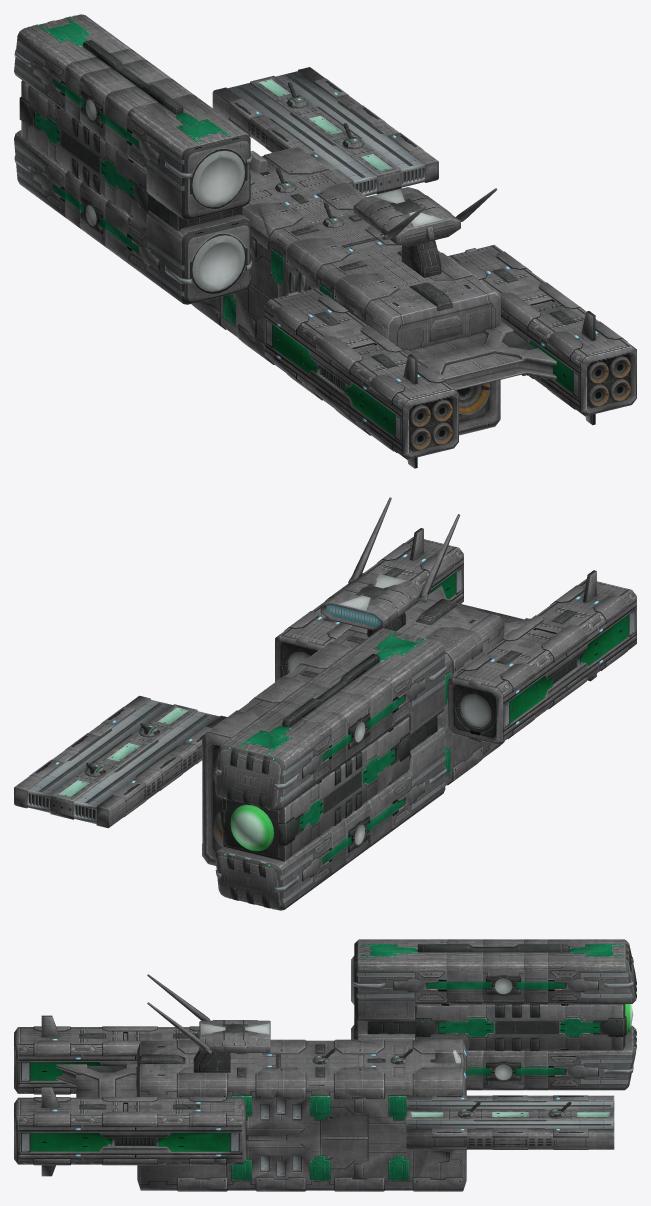
Rendered from cruiser.glb.
3 renders of one model, top to bottom at view 1: azimuth 30°, elevation 25°; view 2: azimuth 150°, elevation 25°; view 3: azimuth 270°, elevation 25°, orthographic. The views are drawn at different scales.
Parts seen in each view (by area): view 1: detail-0; view 2: detail-0, turret01, lightsA; view 3: detail-0.
Boxes of the visible parts, x1,y1,x2,y2 form: detail-0: [14, 14, 636, 468]; detail-0: [14, 497, 636, 910]; turret01: [230, 807, 270, 849]; lightsA: [55, 554, 602, 850]; detail-0: [14, 939, 636, 1191].
Bounding box in the file's own units: 14.87 × 12.24 × 34.11.
Materials: 2 (2 with a texture image).
